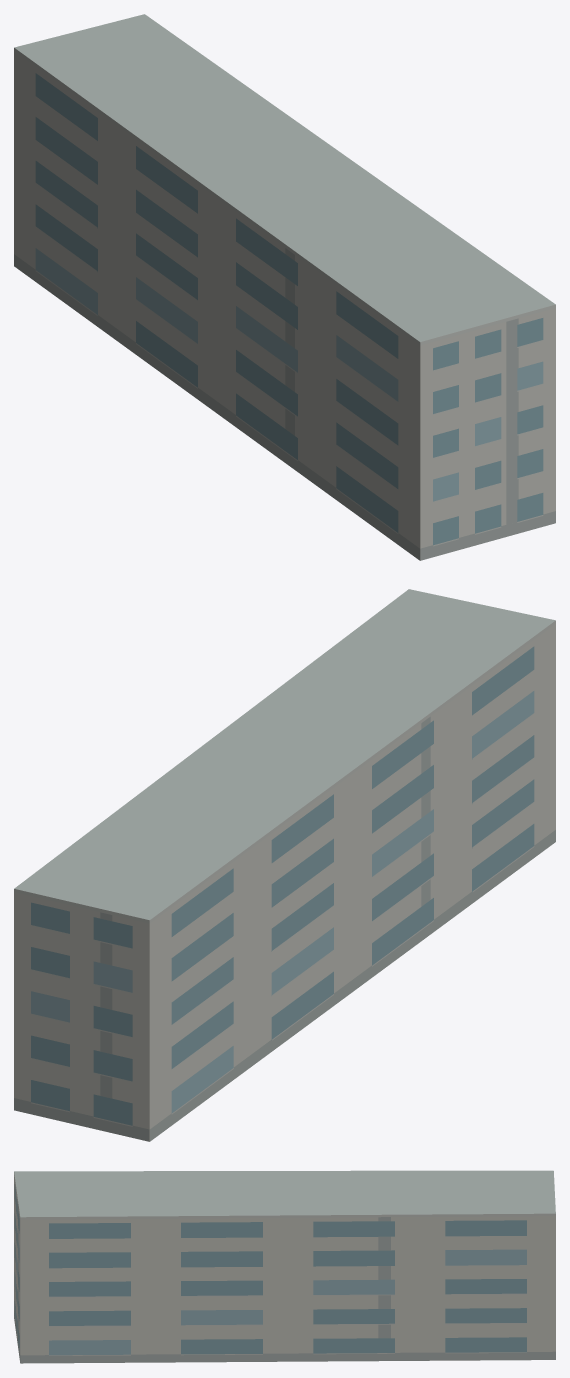
The model's file is residential-42da17c4-ab25-4a0a-859a-861b9a3013f9.glb.
3 views of the same model, one above another, from view 1: azimuth 30°, elevation 25°; view 2: azimuth 150°, elevation 25°; view 3: azimuth 270°, elevation 25° (orthographic). The views are drawn at different scales.
Parts seen in each view (by area): view 1: residential-42da17c4-ab25-4a0a-859a-861b9a3013f9.tmp; view 2: residential-42da17c4-ab25-4a0a-859a-861b9a3013f9.tmp; view 3: residential-42da17c4-ab25-4a0a-859a-861b9a3013f9.tmp.
Boxes of the visible parts, x1=… form: residential-42da17c4-ab25-4a0a-859a-861b9a3013f9.tmp: x1=14, y1=14, x2=555, y2=560; residential-42da17c4-ab25-4a0a-859a-861b9a3013f9.tmp: x1=14, y1=589, x2=555, y2=1141; residential-42da17c4-ab25-4a0a-859a-861b9a3013f9.tmp: x1=14, y1=1170, x2=555, y2=1363.
Bounding box in the file's own units: 10.45 × 15.25 × 51.21.
